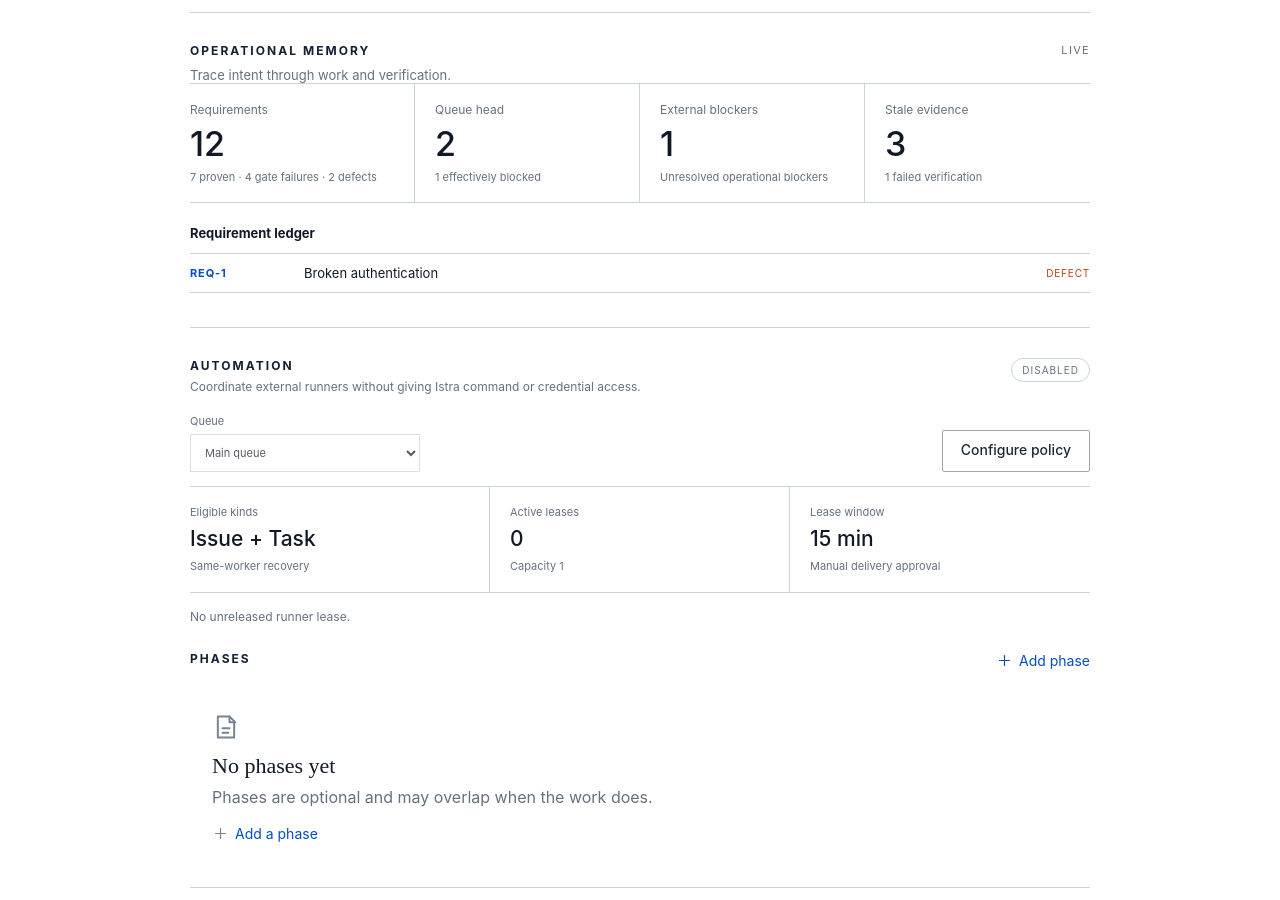
Scenario: ProjectPage › explicitly configures queue automation with client and idempotency headers
(page scrolled)
Expected: the heading "Automation" is shown, [190, 358, 294, 373]
Expected: the text "Disabled" is shown, [1011, 358, 1090, 382]
Click the button "Configure policy". click: (1016, 451)
box: [942, 430, 1090, 472]
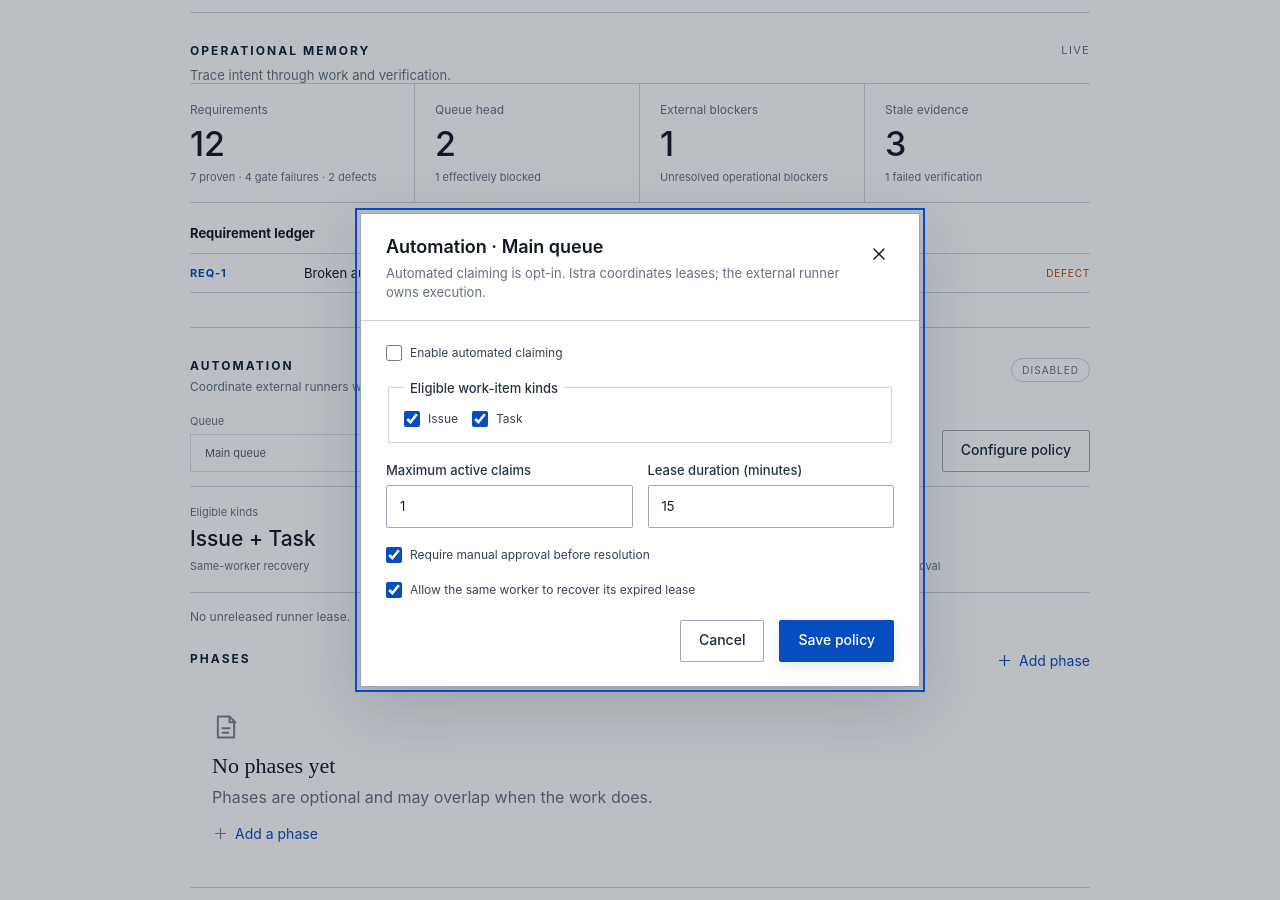
Click the checkbox labelled "Enable automated claiming". click: (394, 353)
box: [386, 345, 402, 361]
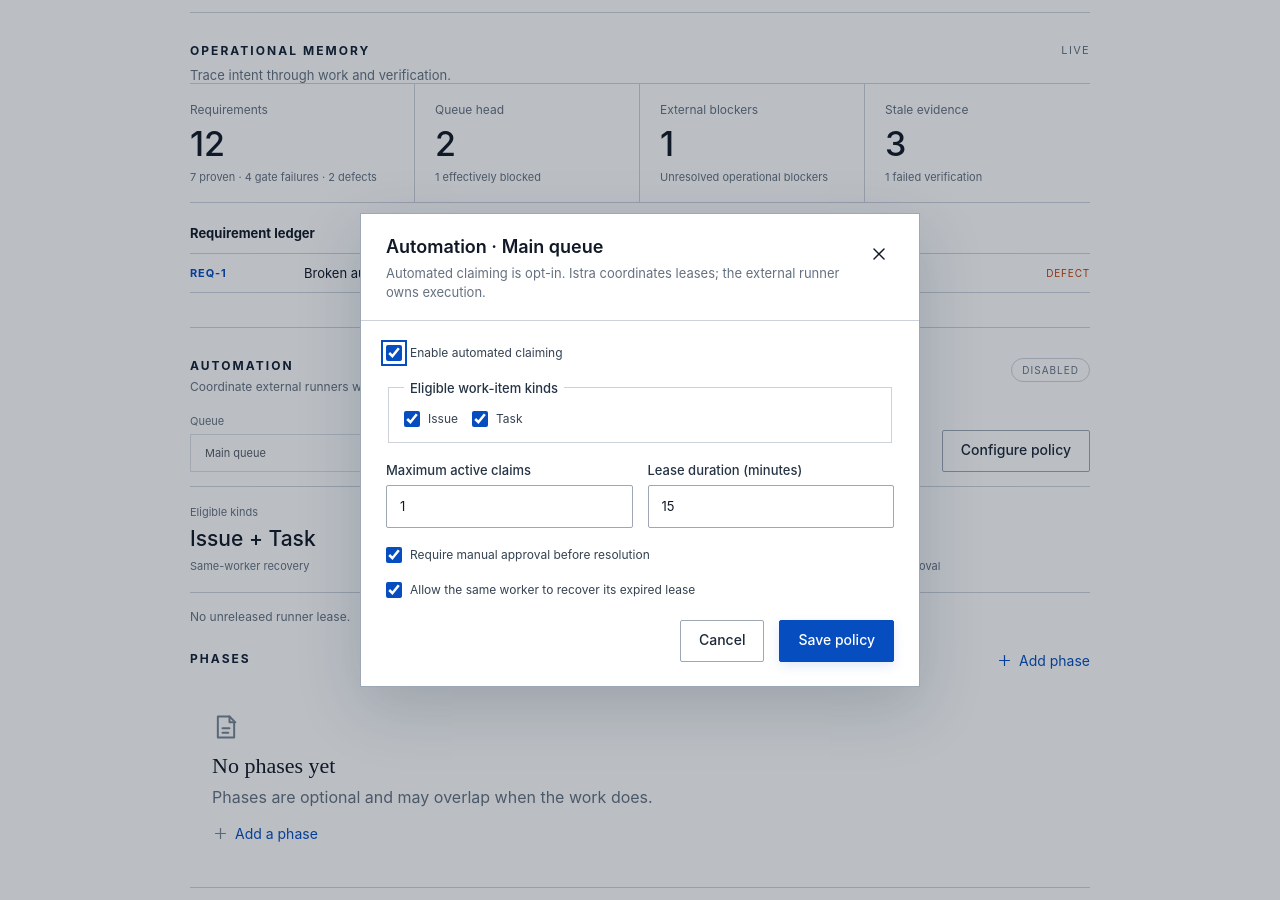
Click the button "Save policy". click: (837, 641)
box: [780, 620, 894, 662]
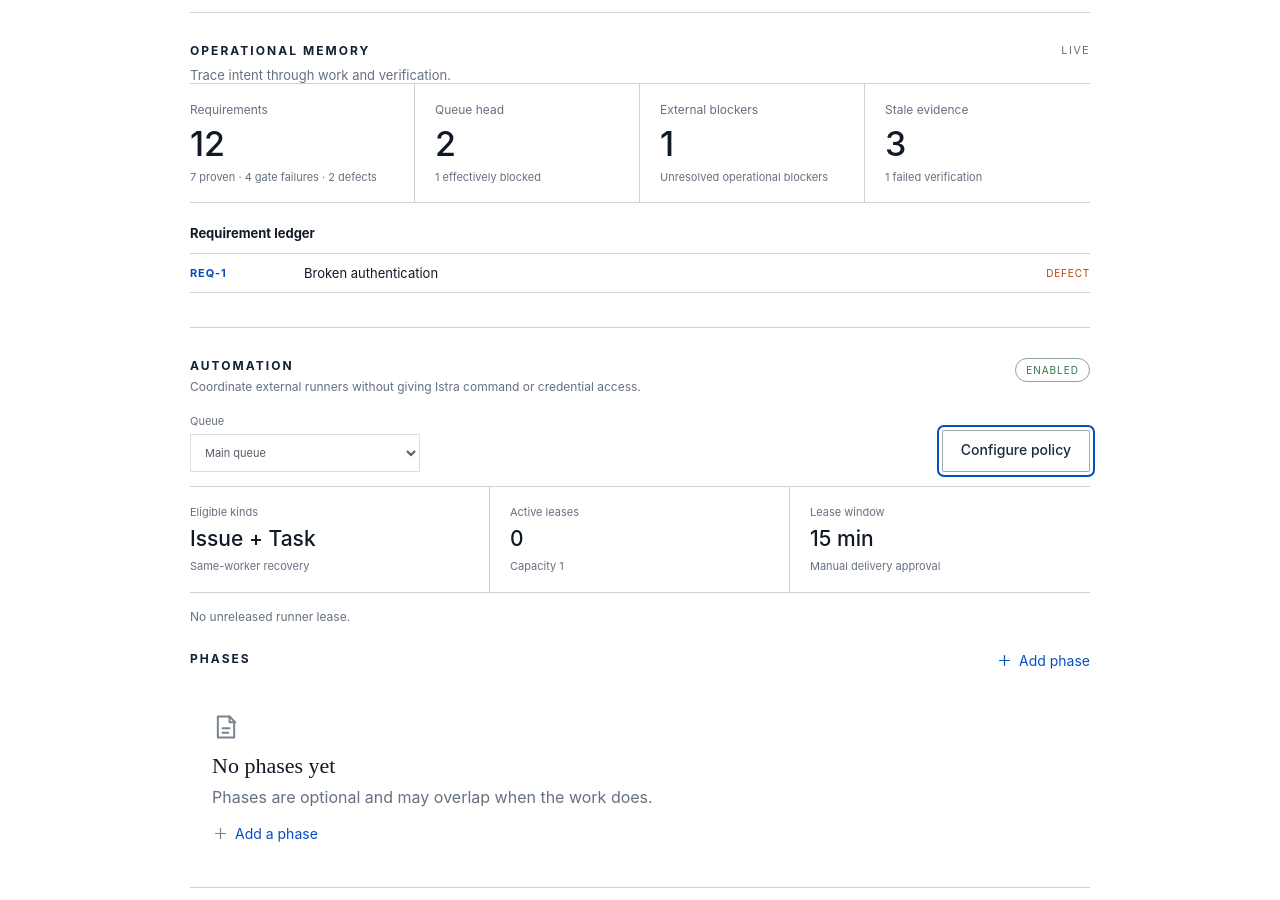
Expected: the text "Enabled" is shown, [1015, 358, 1090, 382]
